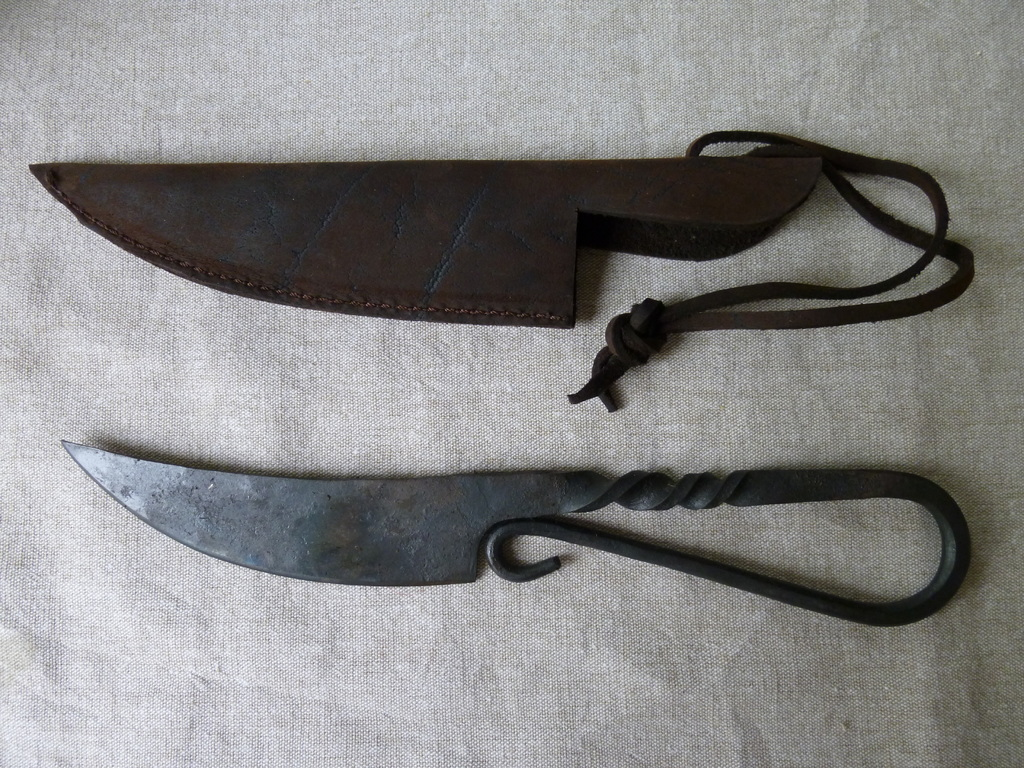knife: (24, 128, 976, 413), (60, 439, 970, 626)
